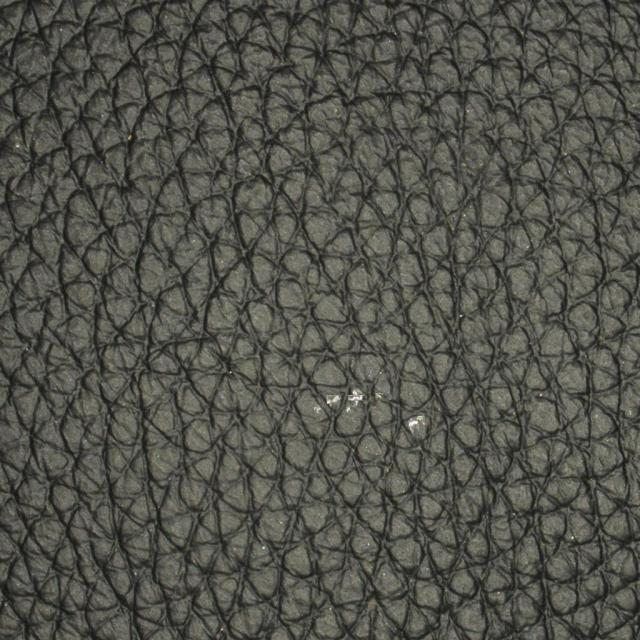Rotten surface: (279, 321, 465, 500)
